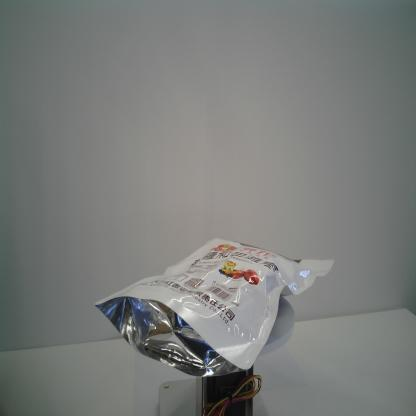Dried Food: (94, 237, 335, 377)
